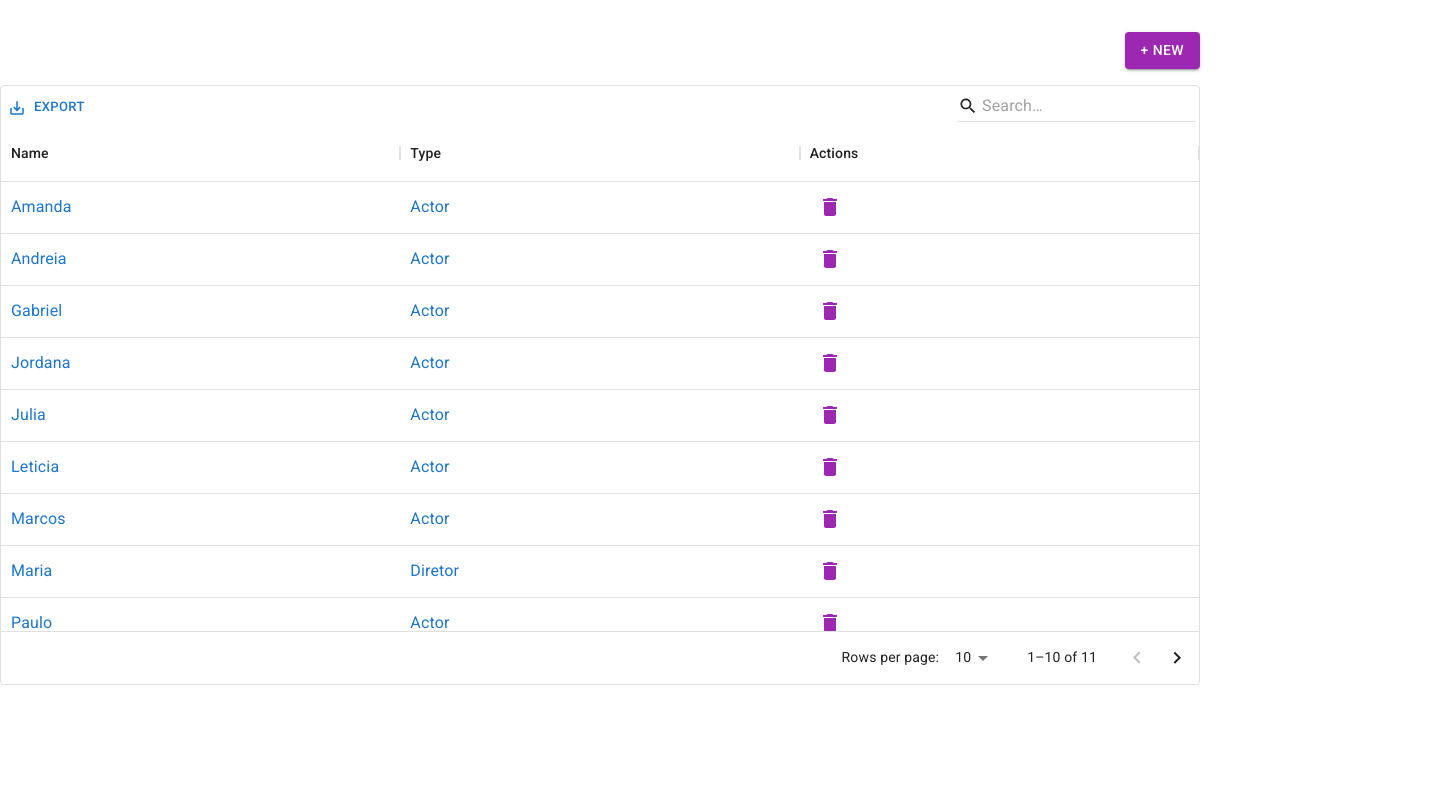
Test case: List cast member › should handle delete cast member success
Check: the text "Amanda" is shown, box [11,195,72,219]
Click the button with test id "delete-button" in the row of "Amanda".
click(830, 207)  # box [810,187,850,227]
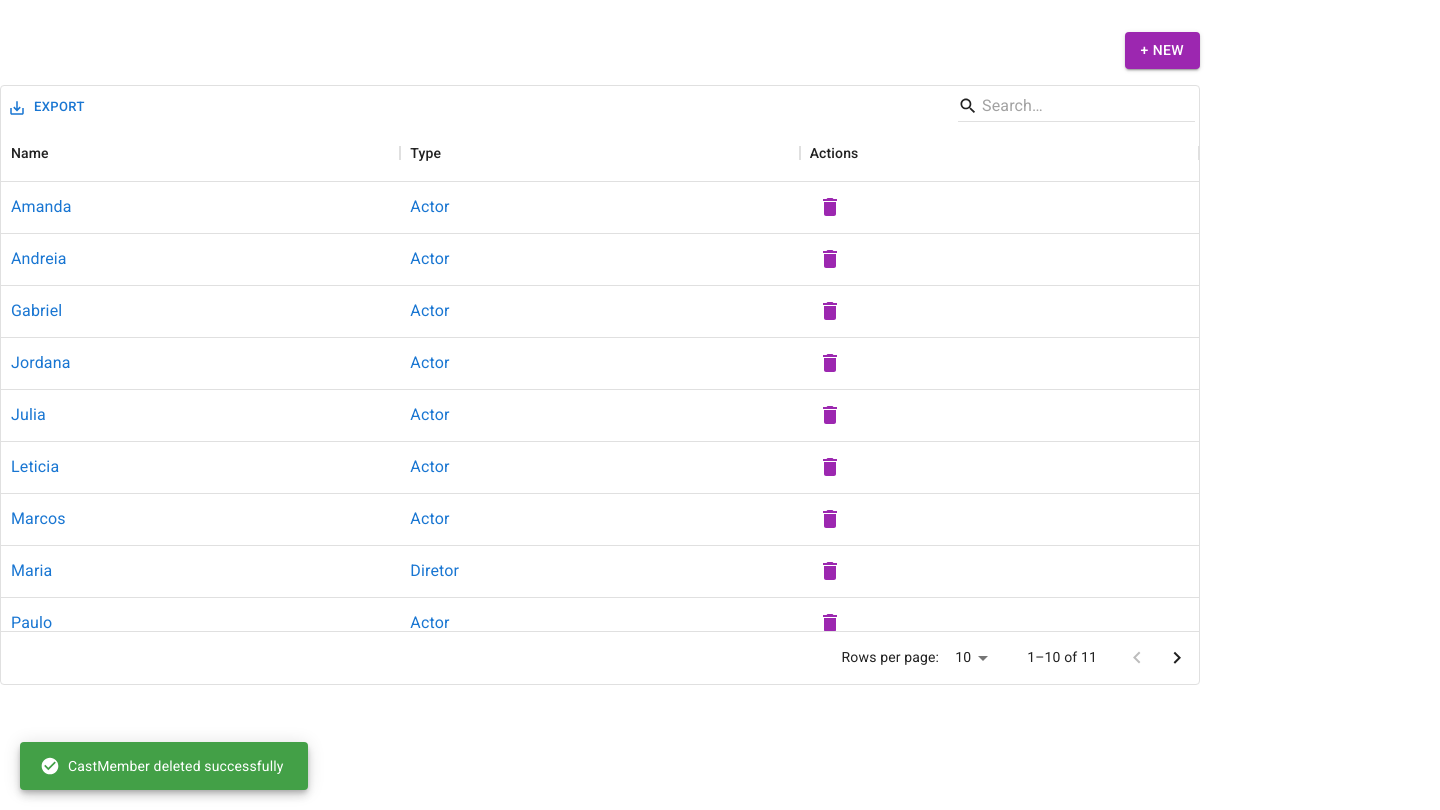
Check: the text "CastMember deleted successfully" is shown, box [40,756,284,776]
